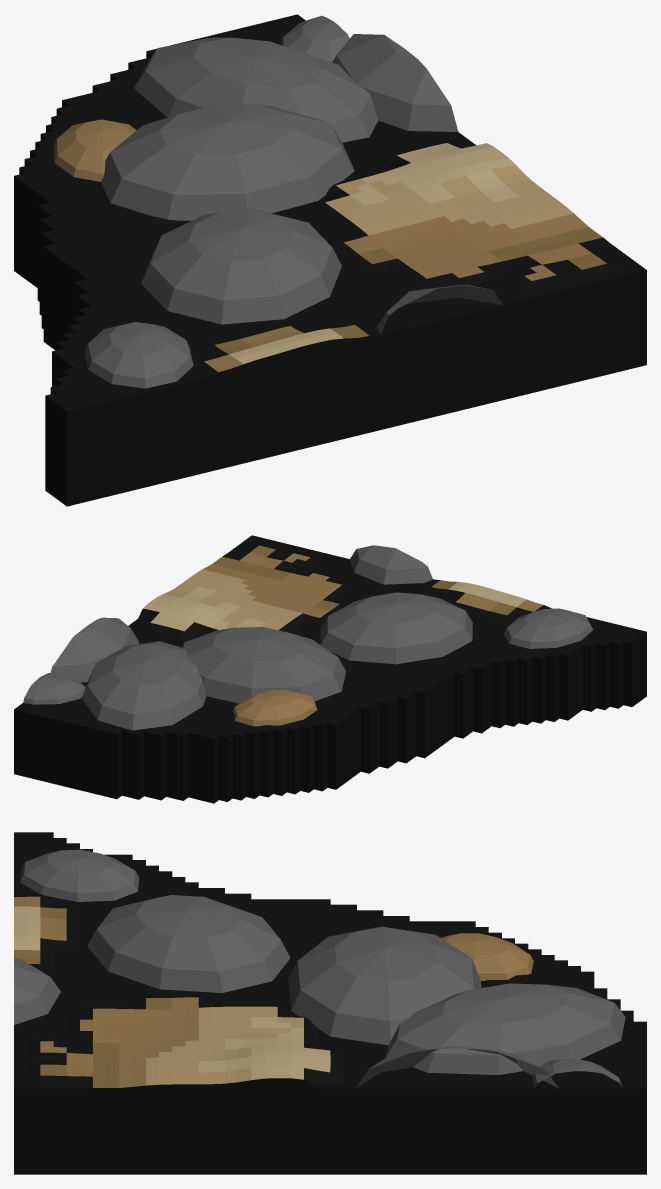
3 views of the same model, one above another, from view 1: azimuth 30°, elevation 25°; view 2: azimuth 150°, elevation 25°; view 3: azimuth 270°, elevation 25° (orthographic). The views are drawn at different scales.
Parts seen in each view (by area): view 1: shapesz-t120; view 2: shapesz-t120; view 3: shapesz-t120.
Part boxes in pixels (<box>): shapesz-t120: <box>14,14,646,506</box>; shapesz-t120: <box>14,535,646,803</box>; shapesz-t120: <box>14,832,646,1174</box>.
Size of the model in its own units: 1.92 by 0.458 by 2.
